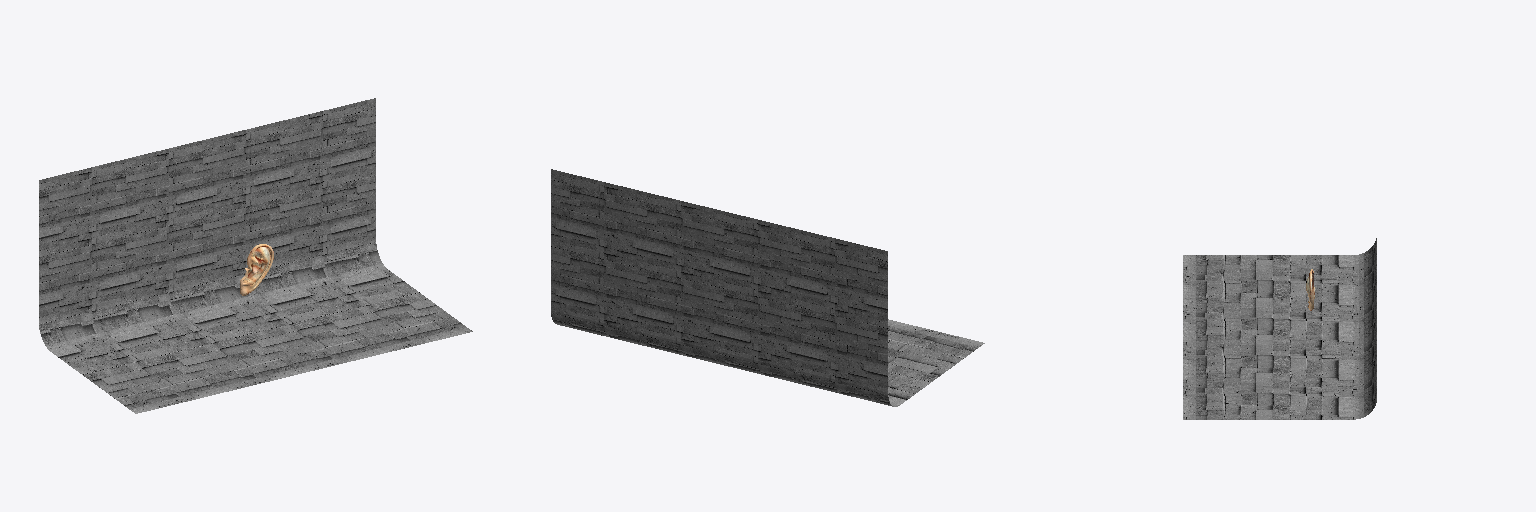
3 views of the same model, side by side, from view 1: azimuth 30°, elevation 25°; view 2: azimuth 150°, elevation 25°; view 3: azimuth 270°, elevation 25° (orthographic).
Visible parts, largest first — view 1: Line001, ear; view 2: Line001; view 3: Line001.
Boxes of the visible parts, <box> form: Line001: <box>39,98,472,413</box>; ear: <box>240,244,273,295</box>; Line001: <box>551,169,984,406</box>; Line001: <box>1183,238,1376,419</box>.
Bounding box in the file's own units: 90.89 × 41.9 × 45.3.
Materials: 2 (2 with a texture image).